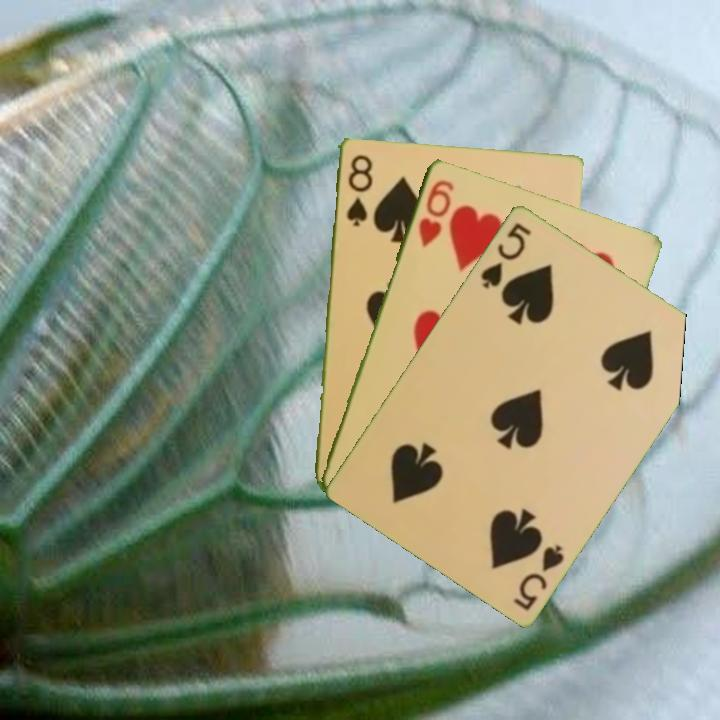5s: (509, 540, 567, 613), (477, 218, 534, 291)
6h: (414, 175, 456, 250)
8s: (343, 150, 374, 229)
